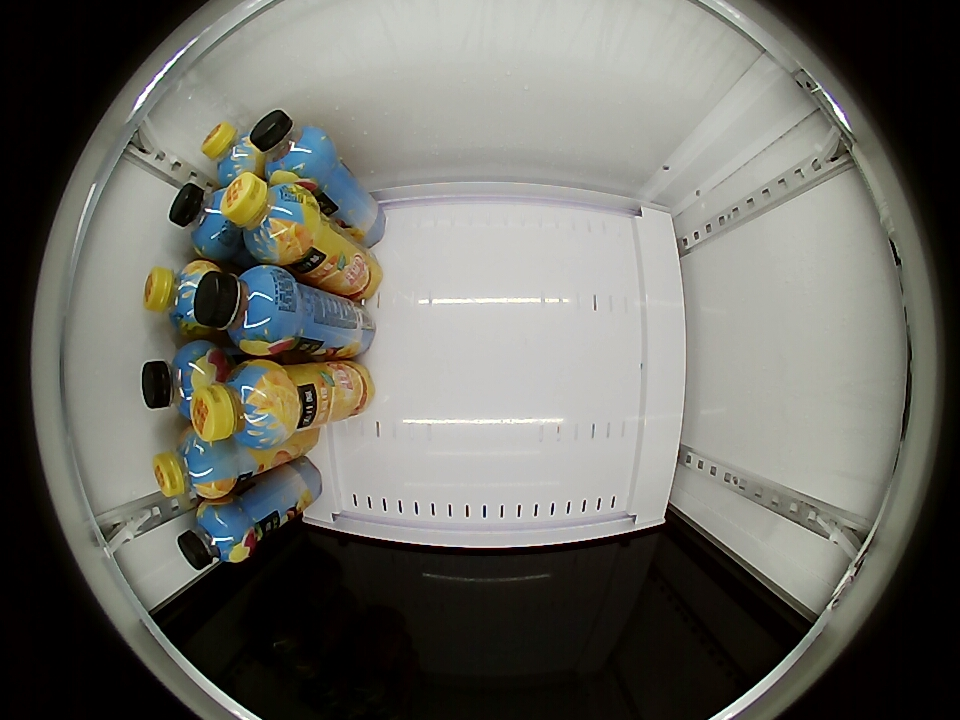guolicheng: (189, 359, 295, 450), (219, 174, 317, 263), (152, 429, 236, 500), (143, 260, 215, 337), (202, 122, 265, 188)
guolicheng2: (191, 264, 298, 356), (250, 110, 332, 186), (142, 341, 221, 417), (176, 499, 255, 570), (169, 182, 240, 258)
